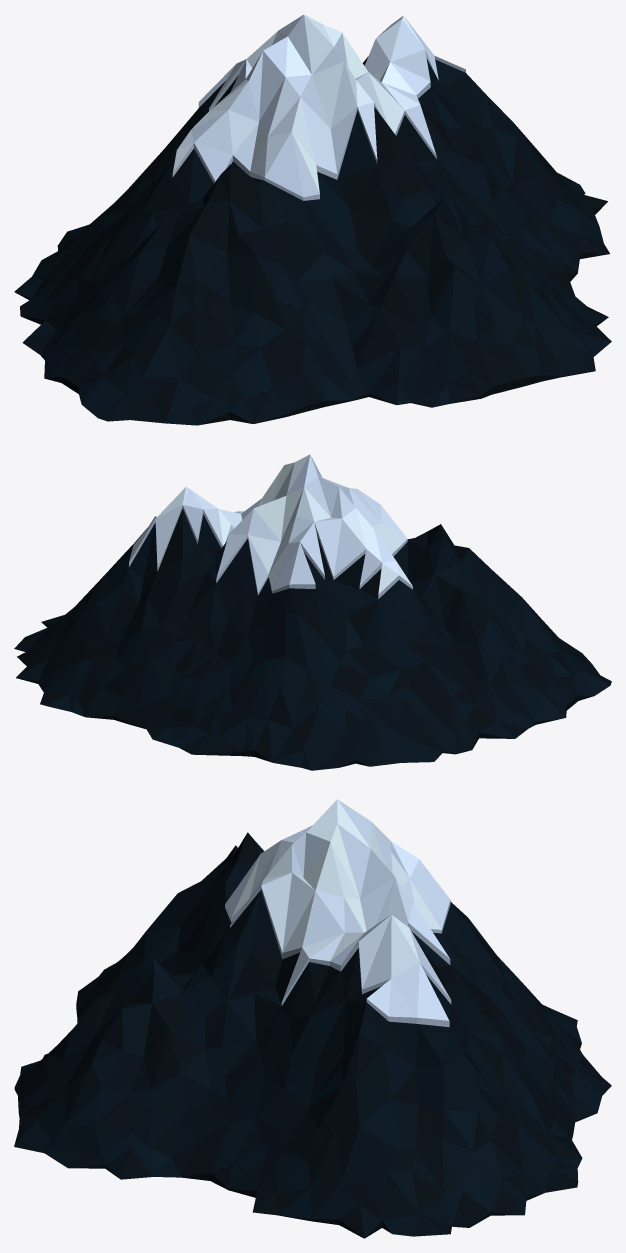
The model's file is ConceptMountain2.fbx.
The picture shows the model from 3 angles, top to bottom: view 1: azimuth 30°, elevation 25°; view 2: azimuth 150°, elevation 25°; view 3: azimuth 270°, elevation 25°; orthographic projection. The views are drawn at different scales.
Parts seen in each view (by area): view 1: ConceptMountain2; view 2: ConceptMountain2; view 3: ConceptMountain2.
Boxes of the visible parts, x1=… form: ConceptMountain2: x1=14, y1=14, x2=611, y2=425; ConceptMountain2: x1=14, y1=454, x2=611, y2=770; ConceptMountain2: x1=14, y1=799, x2=611, y2=1238.
Bounding box in the file's own units: 2.64 × 1.14 × 2.2.
